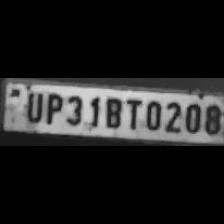0: (142, 97, 162, 131), (182, 100, 202, 134)
1: (84, 93, 102, 129)
2: (161, 99, 181, 134)
3: (62, 92, 84, 126)
8: (201, 100, 221, 136)
B: (102, 94, 122, 128)
P: (42, 90, 62, 124)
T: (122, 96, 142, 130)
U: (21, 89, 43, 123)
